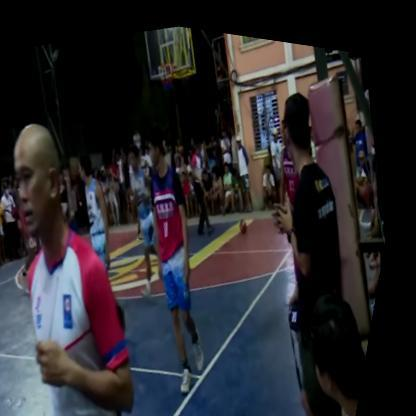basketball: (243, 207, 260, 229)
rim: (152, 49, 187, 98)
